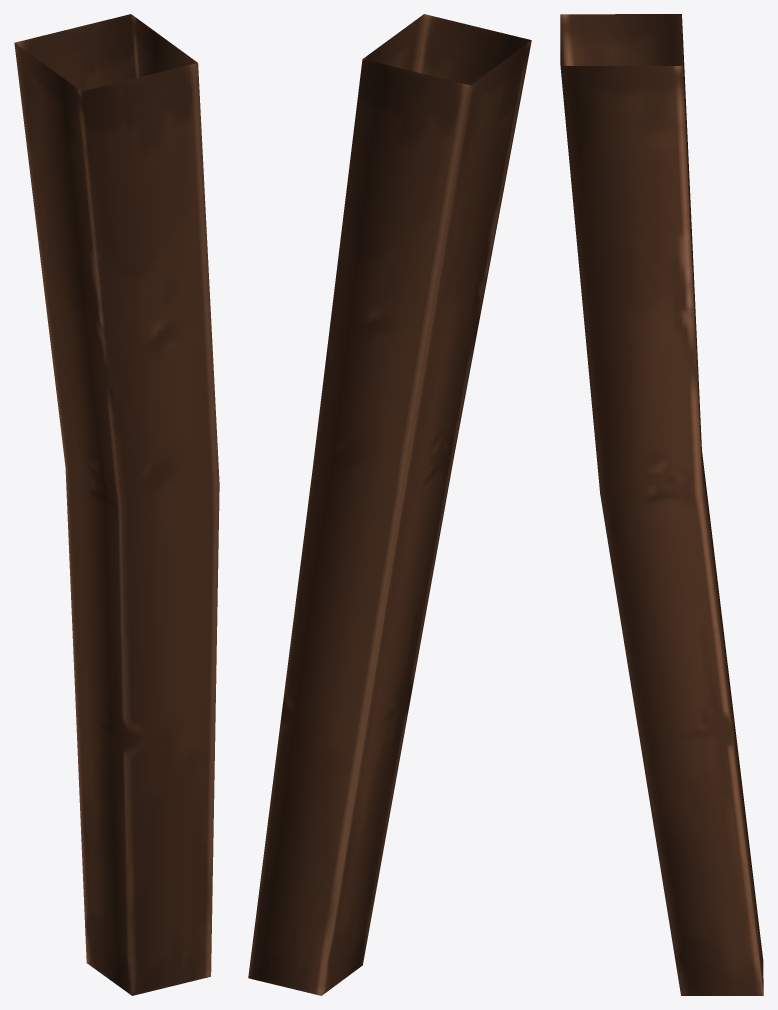
The model's file is sn_jiguan_tielong_003.FBX.
3 renders of one model, left to right at view 1: azimuth 30°, elevation 25°; view 2: azimuth 150°, elevation 25°; view 3: azimuth 270°, elevation 25°, orthographic. The views are drawn at different scales.
Parts seen in each view (by area): view 1: sn_jiguan_tielong_003; view 2: sn_jiguan_tielong_003; view 3: sn_jiguan_tielong_003.
Part boxes in pixels (x1=…): sn_jiguan_tielong_003: x1=14, y1=14, x2=219, y2=995; sn_jiguan_tielong_003: x1=248, y1=14, x2=531, y2=995; sn_jiguan_tielong_003: x1=560, y1=14, x2=763, y2=995.
Bounding box in the file's own units: 77.17 × 369 × 75.96.
